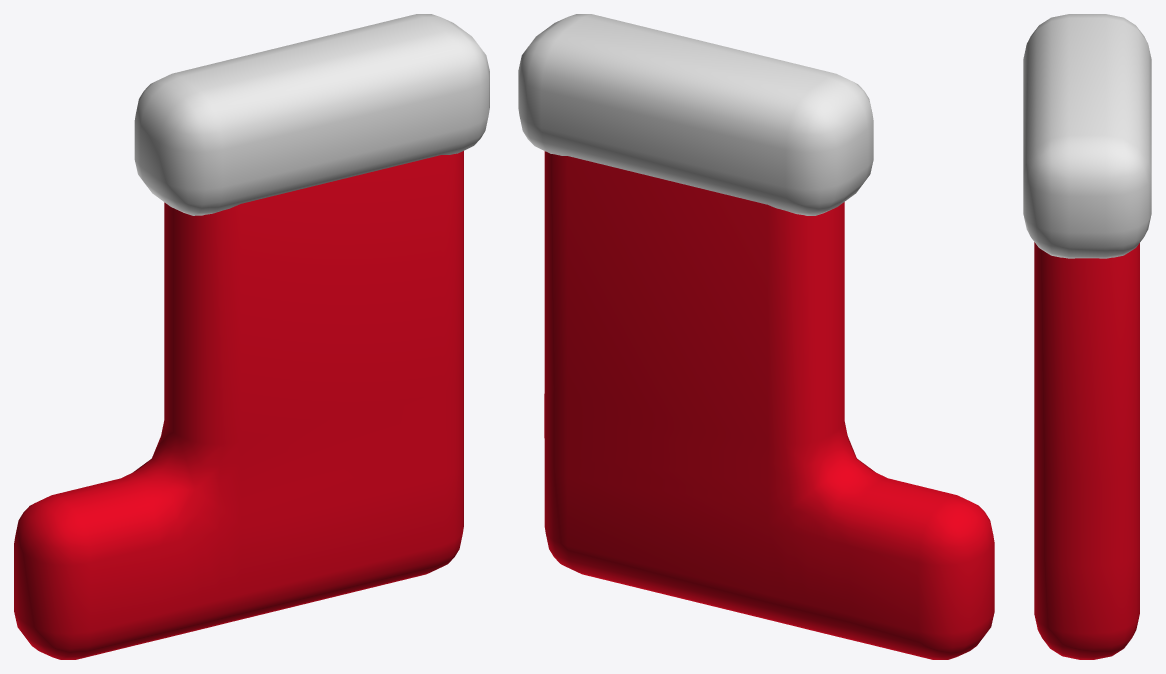
Rendered from stocking.fbx.
The picture shows the model from 3 angles, left to right: view 1: azimuth 30°, elevation 25°; view 2: azimuth 150°, elevation 25°; view 3: azimuth 270°, elevation 25°; orthographic projection.
Parts seen in each view (by area): view 1: Cube; view 2: Cube; view 3: Cube.
Boxes of the visible parts, <box> form: Cube: <box>14,14,489,659</box>; Cube: <box>518,14,994,659</box>; Cube: <box>1023,14,1151,659</box>.
Bounding box in the file's own units: 971 × 1109 × 244.
